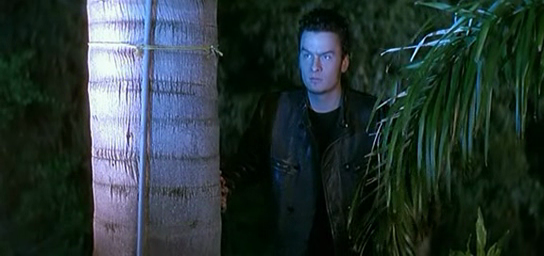face: (300, 31, 337, 94)
ms: (1, 1, 544, 256)
person: (273, 4, 391, 256)
